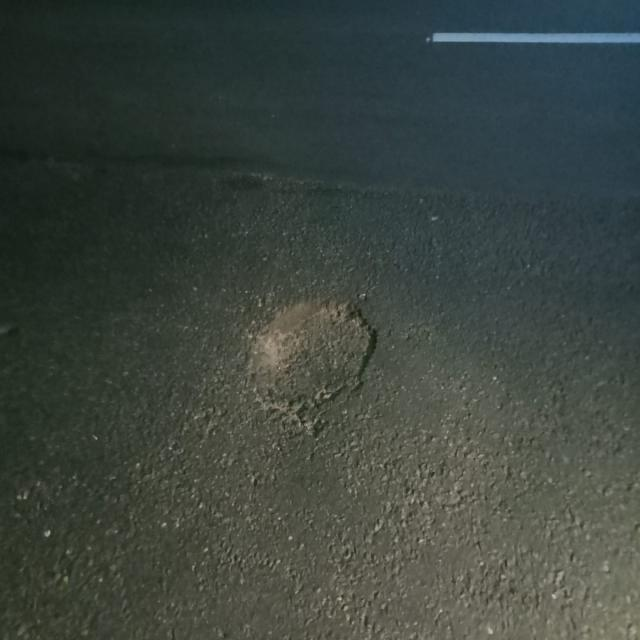Buraco: (238, 289, 385, 443)
